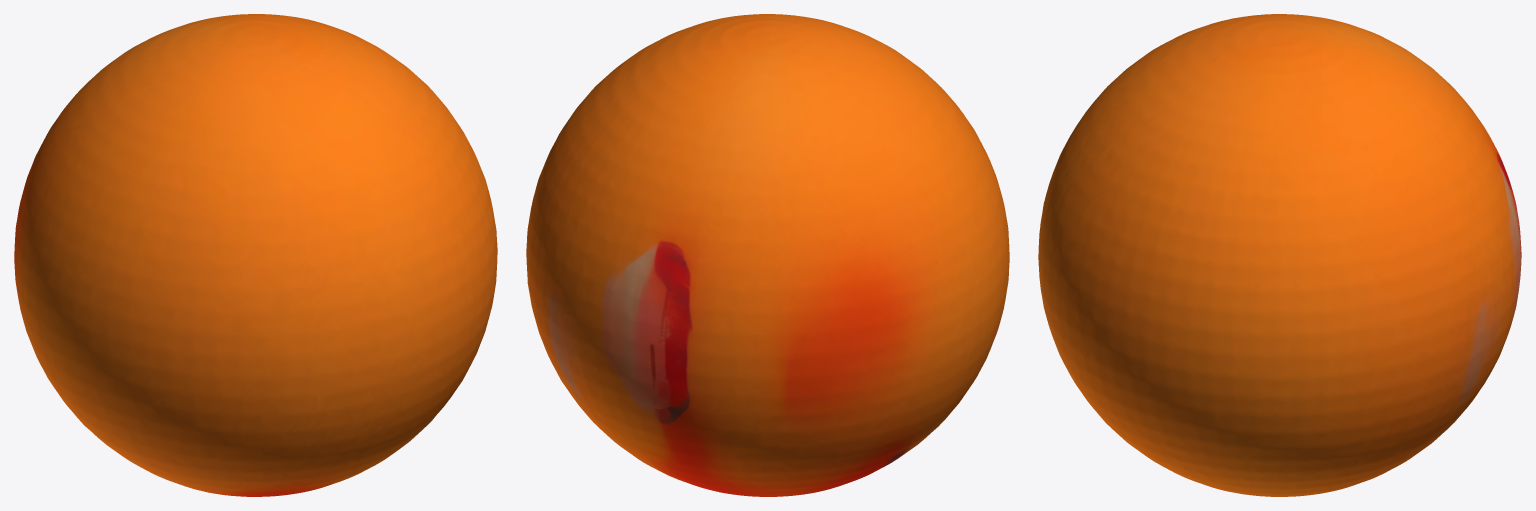
File: obstacle_bouncingball.glb
3 renders of one model, left to right at view 1: azimuth 30°, elevation 25°; view 2: azimuth 150°, elevation 25°; view 3: azimuth 270°, elevation 25°, orthographic.
Parts seen in each view (by area): view 1: model; view 2: model; view 3: model.
Part boxes in pixels (x1=…): model: x1=14, y1=14, x2=497, y2=496; model: x1=526, y1=14, x2=1009, y2=496; model: x1=1038, y1=14, x2=1521, y2=496.
Size of the model in its own units: 1.9 by 1.9 by 1.9.
Materials: 1 (1 with a texture image).
